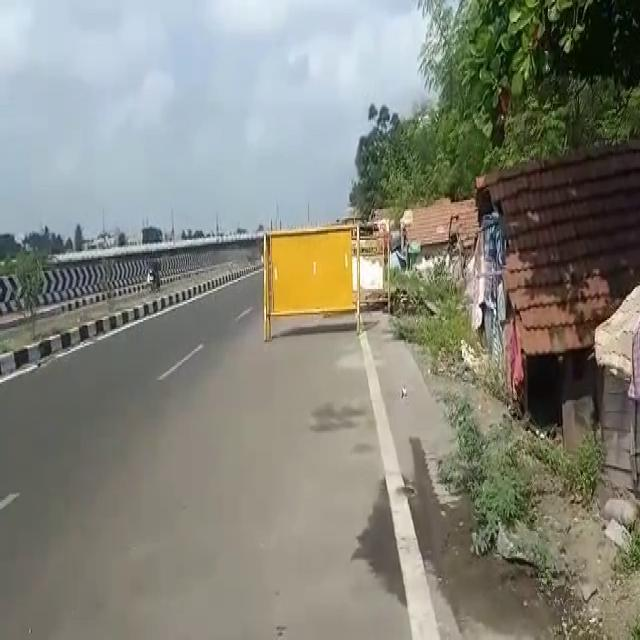fallen_object: (235, 205, 380, 345)
